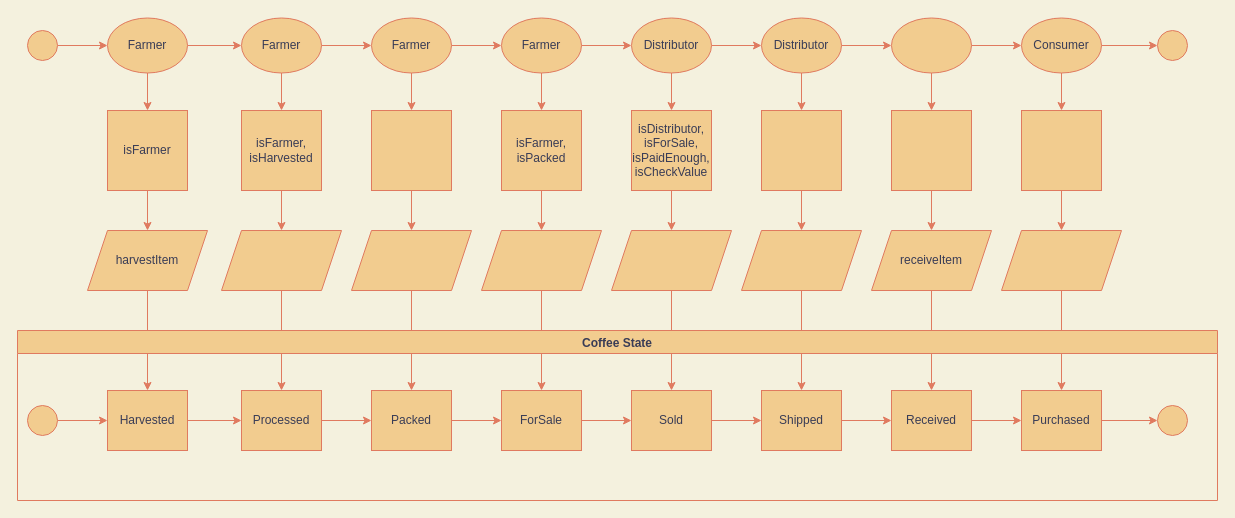
Image size: 1235x518. Some labels were removed from this diagram. The shapes that lost their labels are listed below. From the top down, each one's centre as x and y in pixels, then its label:
At point 931,45: "Retailer".
At point 411,150: "isFarmer, isProcessed".
At point 801,150: "isDistributor, isSold".
At point 931,150: "isRetailer, isShipped".
At point 1061,150: "isConsumer, isReceived".
At point 281,260: "processItem".
At point 411,260: "packItem".
At point 541,260: "sellItem".
At point 671,260: "buyItem".
At point 801,260: "shipItem".
At point 1061,260: "purchaseItem".
